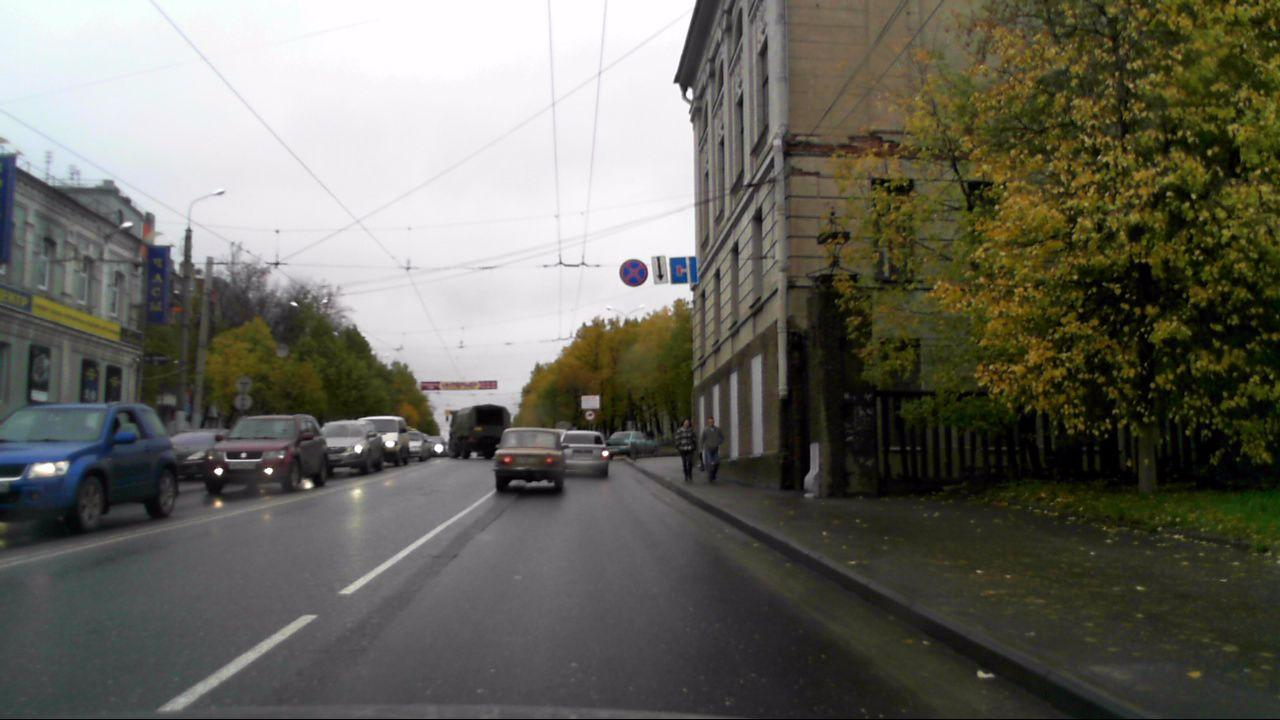3_27: (617, 257, 648, 288)
3_4: (584, 409, 597, 421)
6_8_3: (669, 256, 697, 284)
8_2_3: (650, 254, 668, 286)
